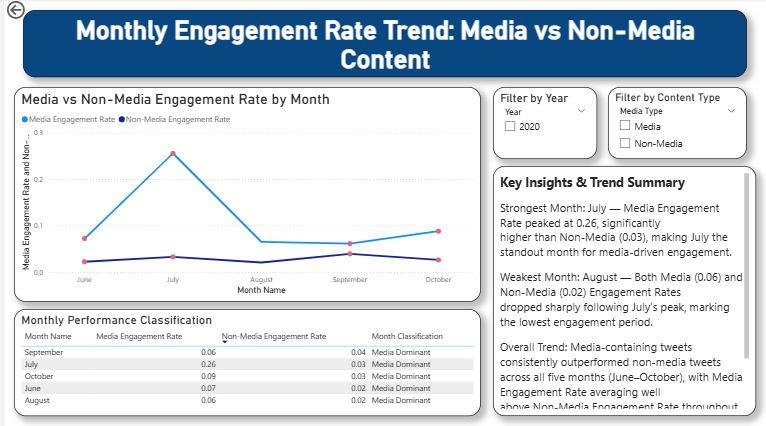

Layout of this report page (visuals, bound fields, positions):
{"tool":"powerbi","page":{"name":"Task- 5","canvas":[1280,720],"ordinal":4},"visuals":[{"type":"lineChart","title":"Media vs Non-Media Engagement Rate by Month","fields":{"Category":["Date Table.Month Name"],"Y":["SocialMedia (1).Media Engagement Rate","SocialMedia (1).Non-Media Engagement Rate"]},"box":[16.8,149.5,784.5,361.2],"z":0},{"type":"slicer","title":"Filter by Year","fields":{"Values":["Date Table.Year"]},"box":[821.4,149.5,174.7,120.9],"z":1000},{"type":"slicer","title":"Filter by Content Type","fields":{"Values":["SocialMedia (1).Media Type"]},"box":[1014.6,149.5,233.5,120.9],"z":2000},{"type":"tableEx","title":"Monthly Performance Classification","fields":{"Values":["Date Table.Month Name","SocialMedia (1).Media Engagement Rate","SocialMedia (1).Non-Media Engagement Rate","SocialMedia (1).Month Classification"]},"box":[16.8,522.4,784.5,179.7],"z":3000},{"type":"actionButton","box":[0,0,100,40],"z":4000},{"type":"textbox","box":[821.4,282.2,441.8,419.9],"z":5000},{"type":"textbox","title":"Monthly Engagement Rate Trend: Media vs Non-Media Content","box":[31.9,20.2,1216.2,112.5],"z":6000}]}

Visuals, with their boxes in screenshot pixels (x1, y1, x2, y2), scaled from the page's 1280x720 canvas onto the 766x426 screenshot:
"Media vs Non-Media Engagement Rate by Month" lineChart: [left=10, top=88, right=480, bottom=302]
"Filter by Year" slicer: [left=492, top=88, right=596, bottom=160]
"Filter by Content Type" slicer: [left=607, top=88, right=747, bottom=160]
"Monthly Performance Classification" tableEx: [left=10, top=309, right=480, bottom=415]
actionButton: [left=0, top=0, right=60, bottom=24]
textbox: [left=492, top=167, right=756, bottom=415]
"Monthly Engagement Rate Trend: Media vs Non-Media Content" textbox: [left=19, top=12, right=747, bottom=79]
